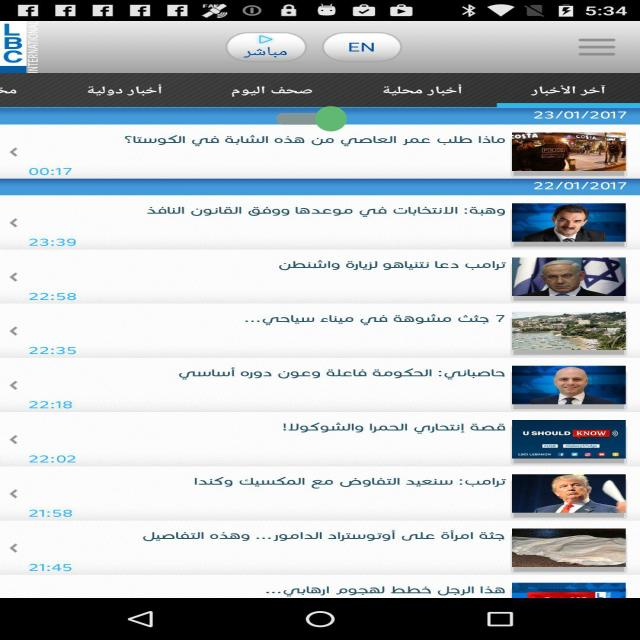social proof: (276, 91, 347, 147)
